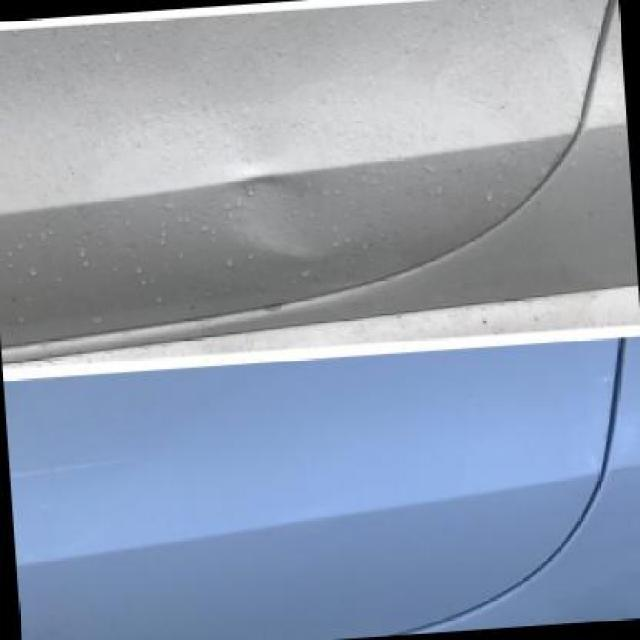dent: (163, 174, 385, 258)
